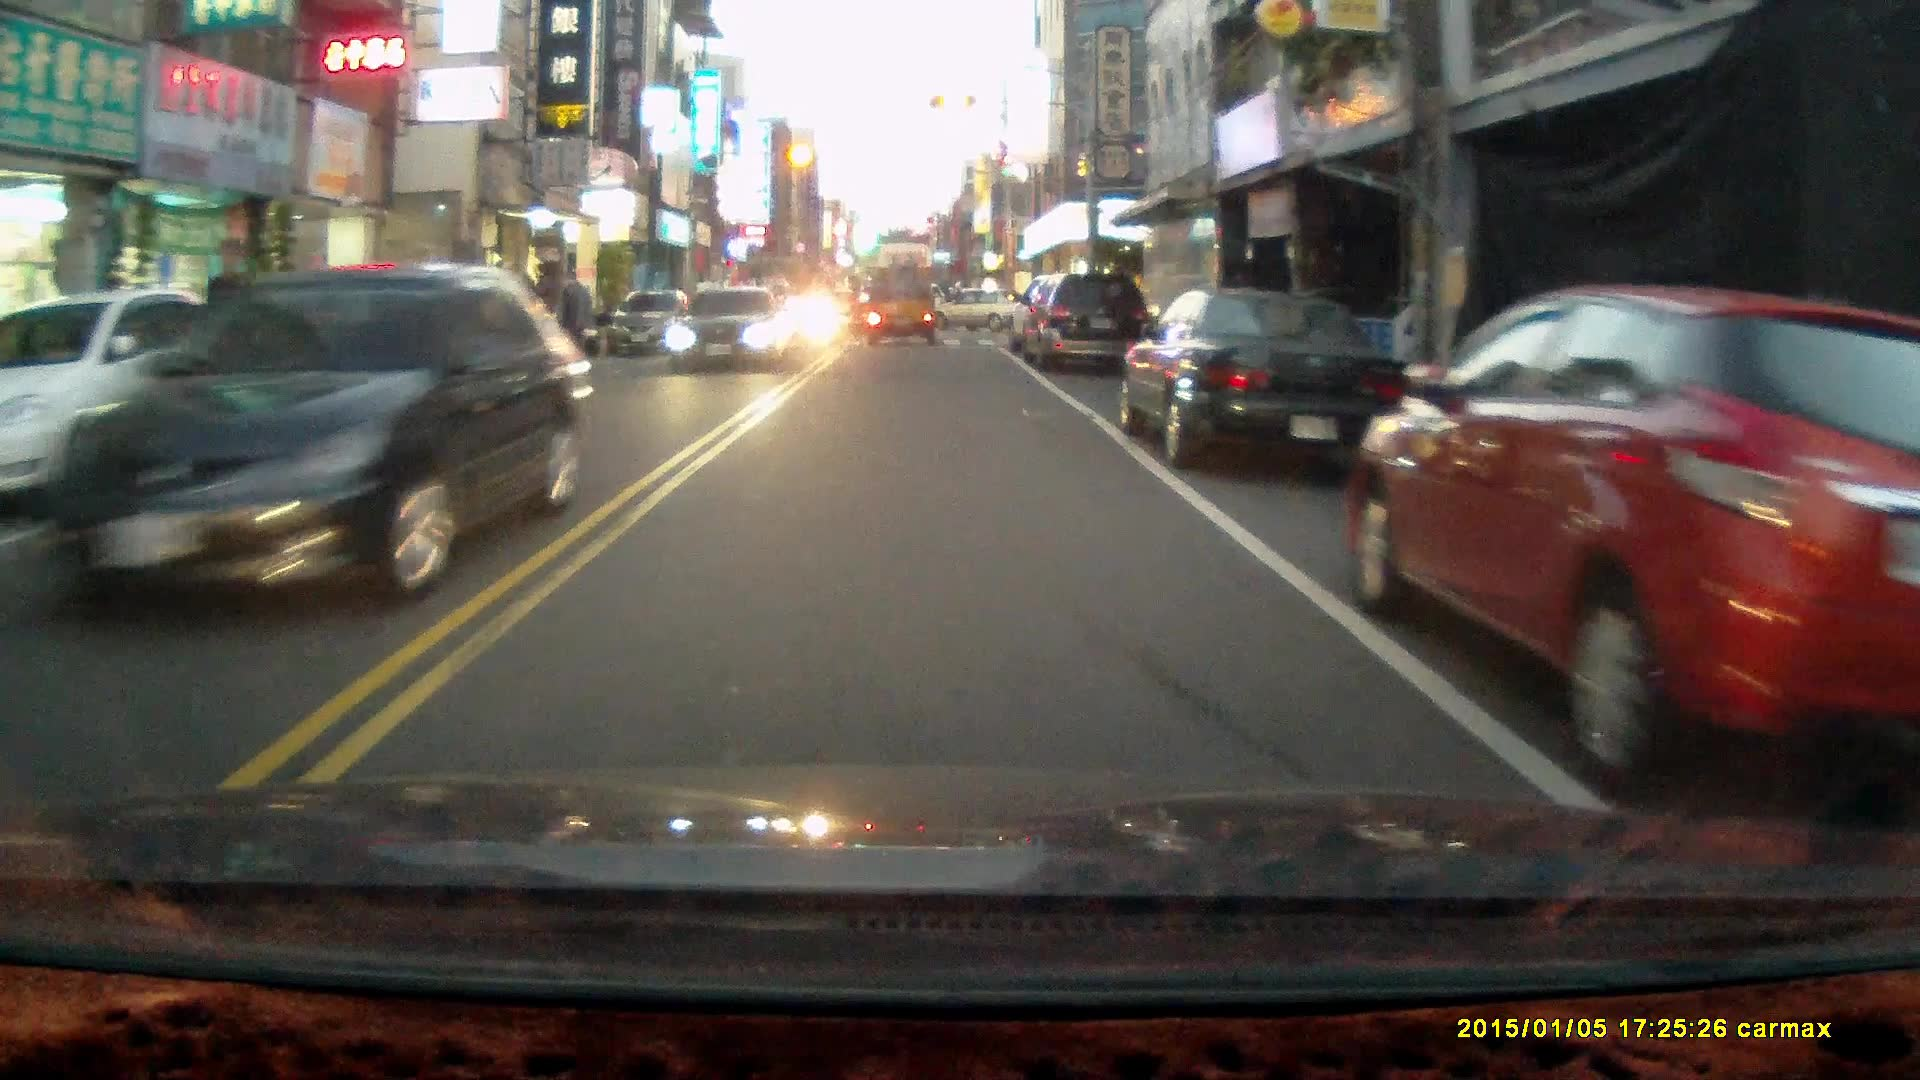pedestrian: (556, 266, 598, 385)
vehicle: (1354, 284, 1920, 797), (49, 263, 597, 620), (1117, 284, 1413, 473), (1017, 270, 1156, 374), (671, 286, 791, 376), (605, 288, 700, 353), (868, 265, 939, 347)
